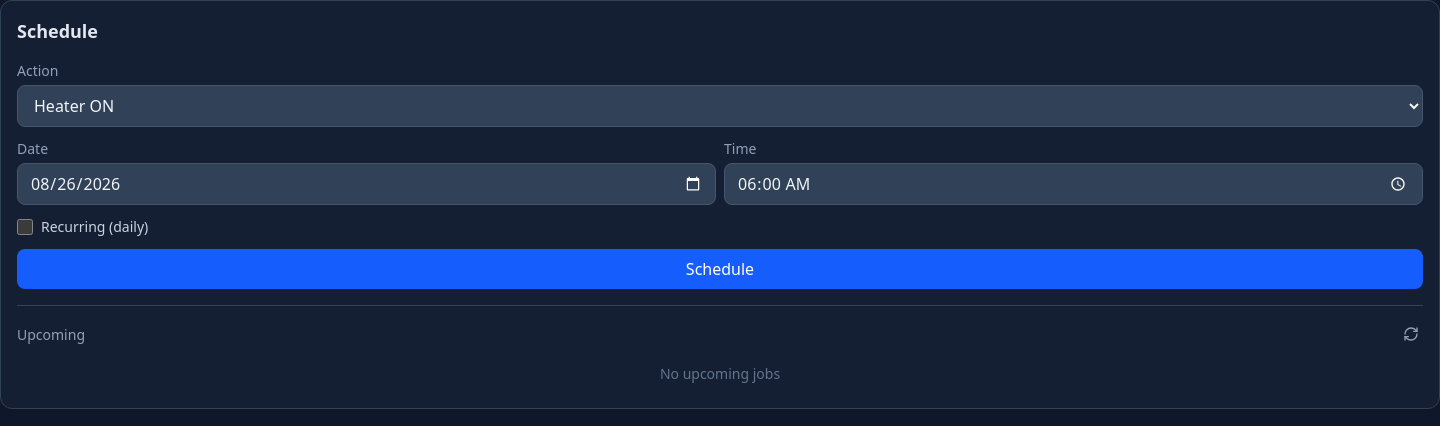
Test: SchedulePanel manual refresh button › shows tooltip on long press
Press the mouse on the button named "refresh" at (1411,334), box [1399, 322, 1423, 346]
Wait 550 ms
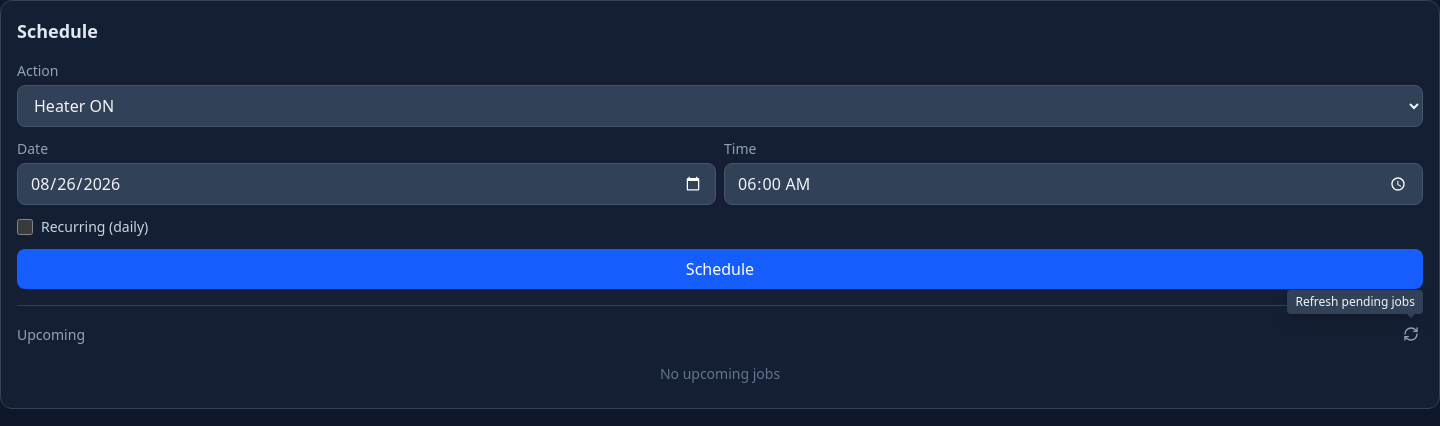
Result: the text "Refresh pending jobs" is shown at [1287, 290, 1423, 314]
